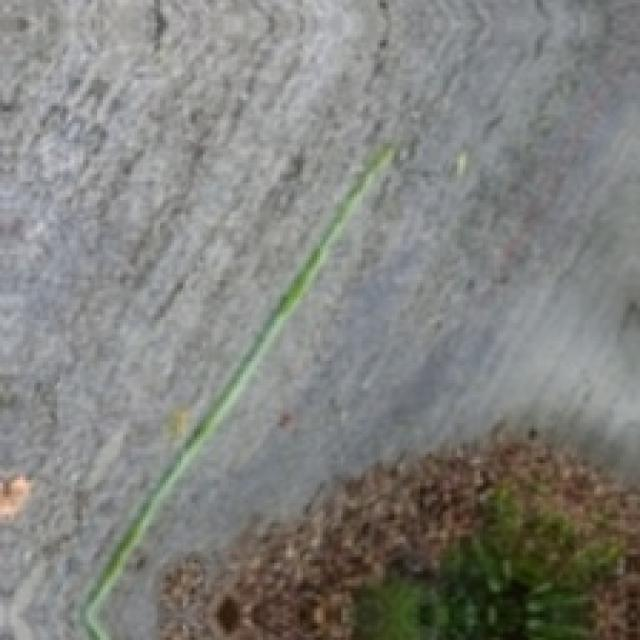red-tailed green ratsnake: (80, 140, 397, 637)
